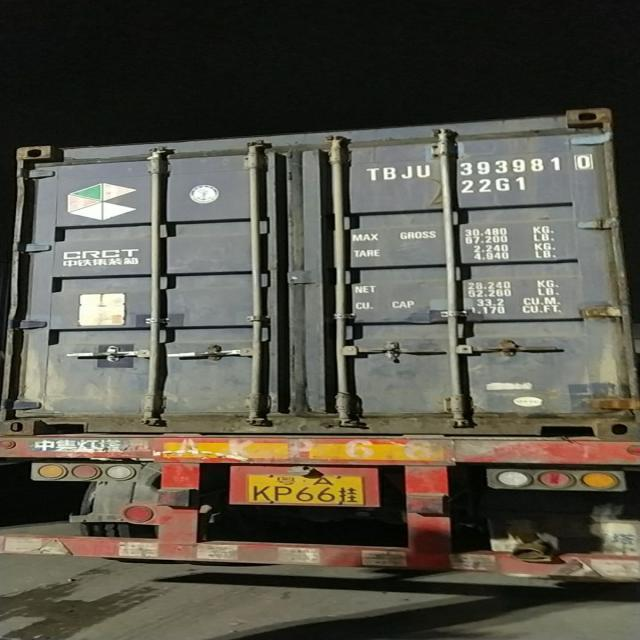ISO: (465, 173, 529, 194)
container_number: (367, 153, 600, 185)
